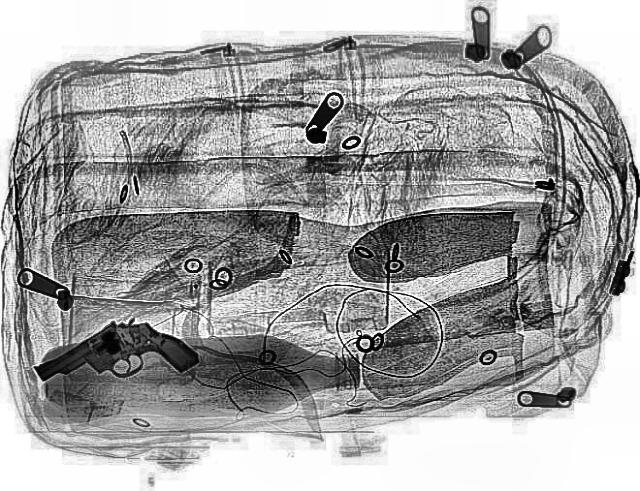Gun: (29, 305, 203, 423)
